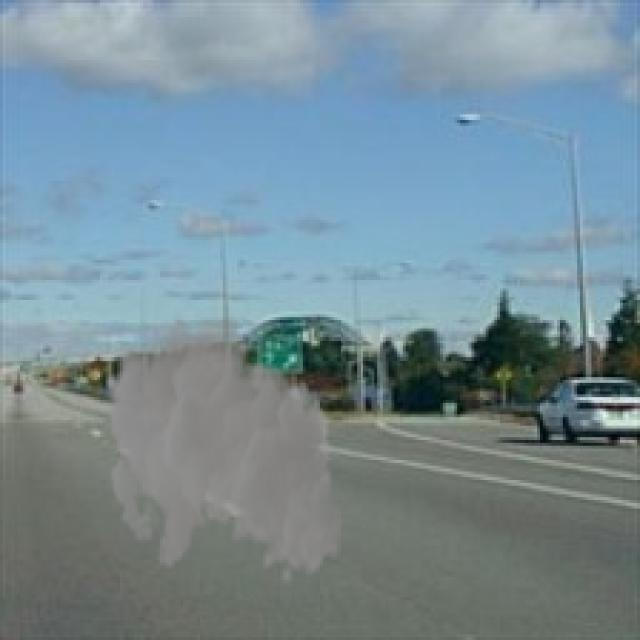smoke: (103, 306, 343, 586)
